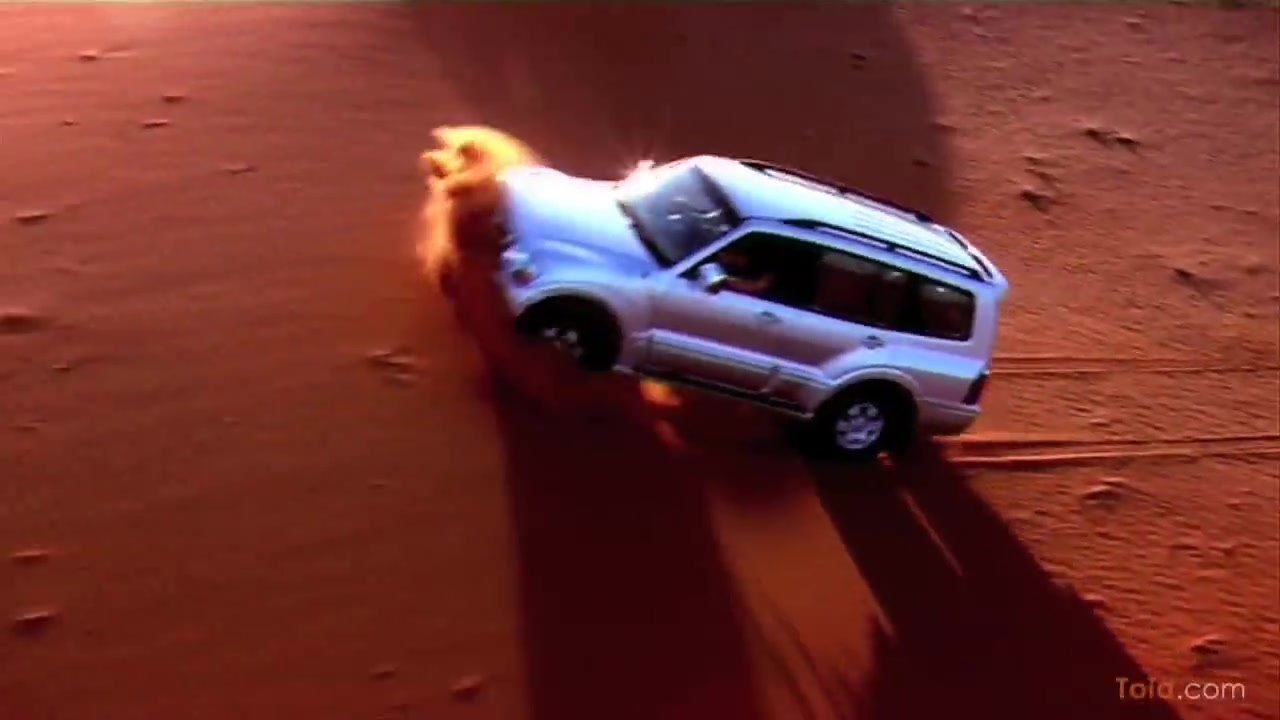car: (494, 143, 1008, 462)
